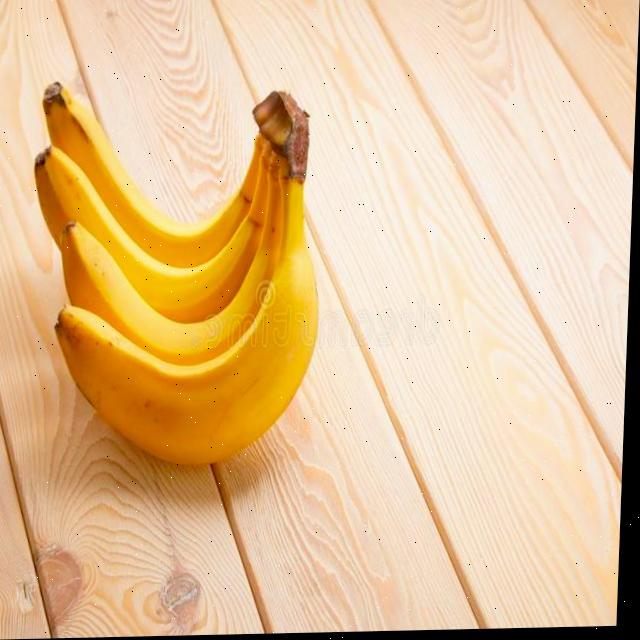banana: (17, 70, 335, 477)
